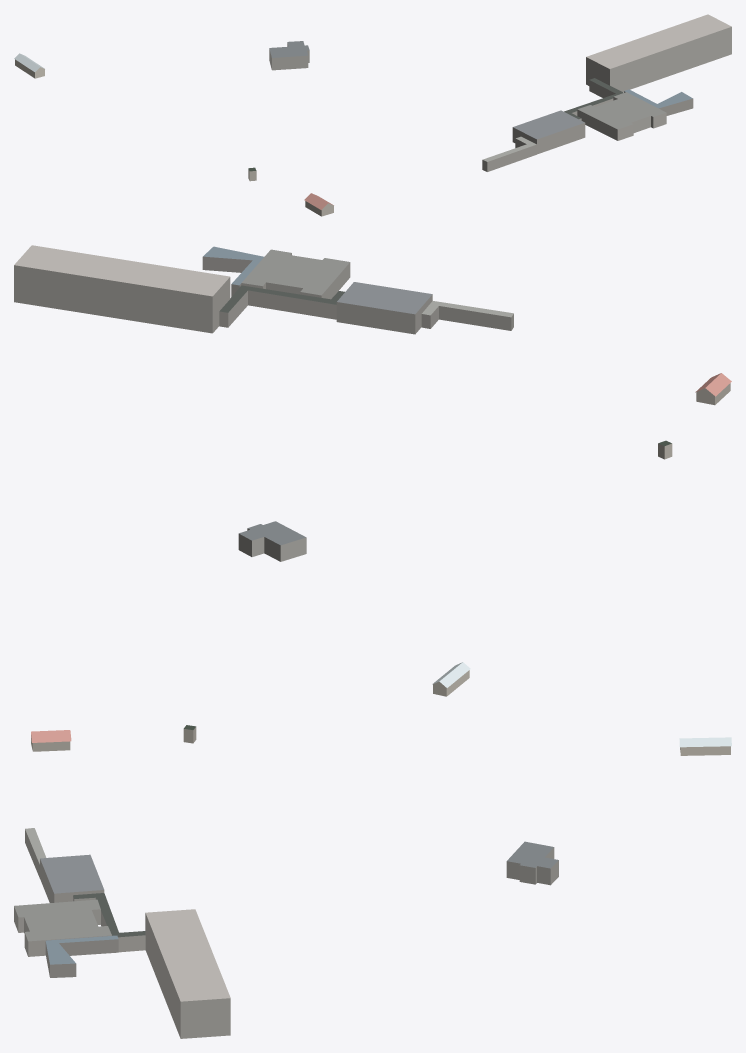
3 views of the same model, one above another, from view 1: azimuth 30°, elevation 25°; view 2: azimuth 150°, elevation 25°; view 3: azimuth 270°, elevation 25° (orthographic). The views are drawn at different scales.
Visible parts, largest first — view 1: tuile; view 2: tuile; view 3: tuile.
Boxes of the visible parts, box(x1,y1,x2,y2) form: tuile: box(14, 14, 731, 216); tuile: box(14, 245, 731, 696); tuile: box(14, 725, 731, 1038).
Bounding box in the file's own units: 271 × 31.6 × 243.
